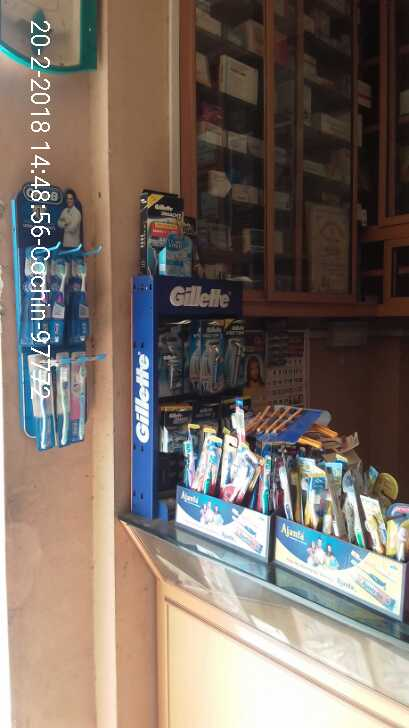beauty: (194, 309, 225, 395), (219, 302, 248, 392), (149, 323, 182, 401), (153, 231, 201, 282)
pharmacy: (68, 256, 97, 344), (31, 361, 53, 449), (49, 353, 71, 441), (48, 254, 68, 345), (73, 361, 89, 442)
